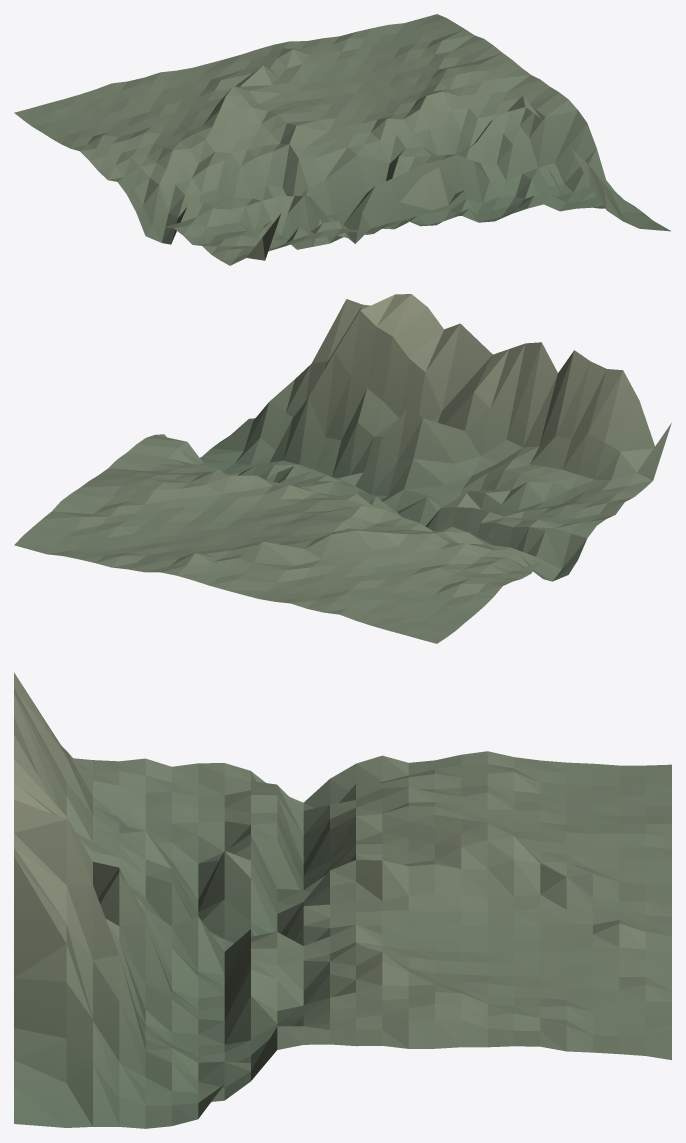
Rendered from tile_3_1.glb.
The picture shows the model from 3 angles, top to bottom: view 1: azimuth 30°, elevation 25°; view 2: azimuth 150°, elevation 25°; view 3: azimuth 270°, elevation 25°; orthographic projection. The views are drawn at different scales.
Parts seen in each view (by area): view 1: geometry_0; view 2: geometry_0; view 3: geometry_0.
Boxes of the visible parts, x1=… form: geometry_0: x1=14, y1=14, x2=670, y2=265; geometry_0: x1=14, y1=294, x2=671, y2=643; geometry_0: x1=14, y1=672, x2=671, y2=1128.
Bounding box in the file's own units: 127 × 48.37 × 123.
